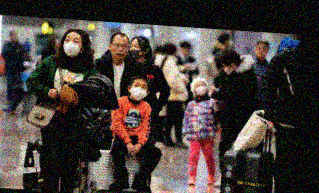with_mask: (62, 33, 82, 58), (129, 80, 147, 101), (128, 42, 143, 60), (195, 81, 208, 97), (222, 62, 235, 76)
without_mask: (111, 39, 128, 60), (255, 43, 268, 59)
